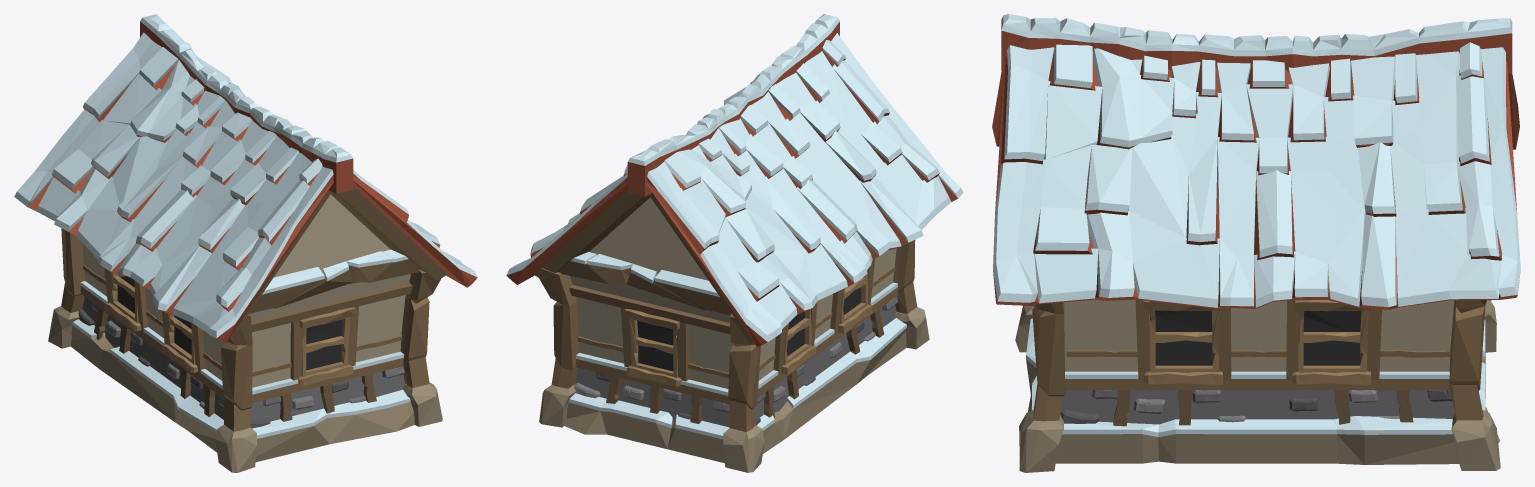
The model's file is SM_Bld_House_Room_01_Snow.gltf.
The picture shows the model from 3 angles, left to right: view 1: azimuth 30°, elevation 25°; view 2: azimuth 150°, elevation 25°; view 3: azimuth 270°, elevation 25°; orthographic projection. The views are drawn at different scales.
Visible parts, largest first — view 1: SM_Bld_House_Room_01_Snow; view 2: SM_Bld_House_Room_01_Snow; view 3: SM_Bld_House_Room_01_Snow.
Boxes of the visible parts, <box> form: SM_Bld_House_Room_01_Snow: <box>14,14,477,472</box>; SM_Bld_House_Room_01_Snow: <box>506,14,963,472</box>; SM_Bld_House_Room_01_Snow: <box>992,14,1520,472</box>.
Bounding box in the file's own units: 5.04 × 5.16 × 6.38.
Materials: 1 (1 with a texture image).
